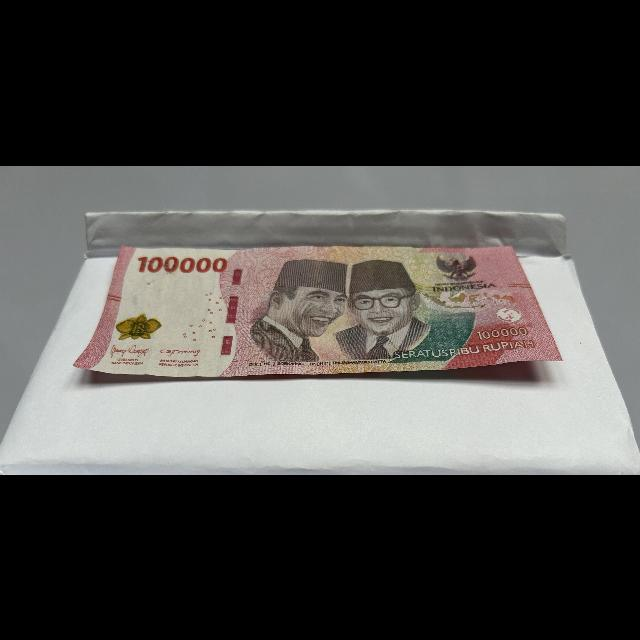Palsu-100k: (66, 240, 572, 378)
Tinta-Palsu-100k: (110, 312, 166, 340)
